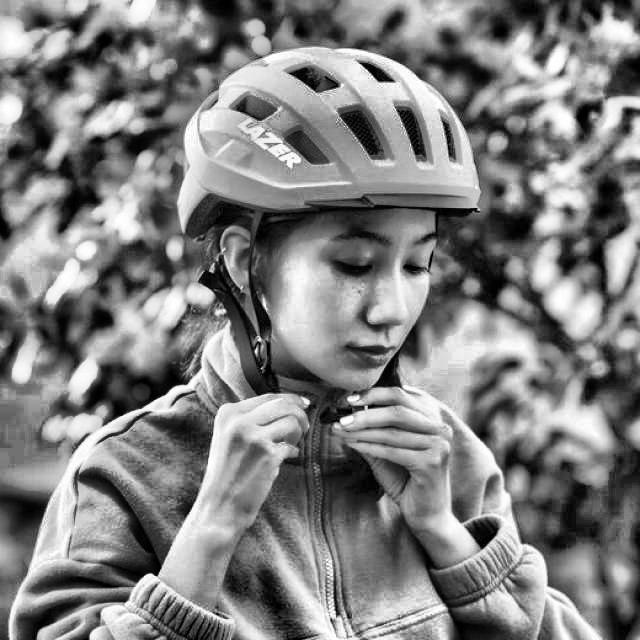Helmet: (166, 40, 488, 412)
